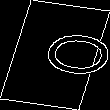O_W: (11, 29, 99, 81)
